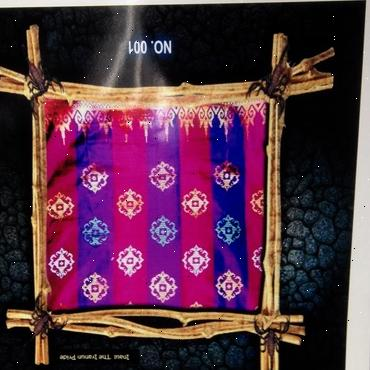malong: (29, 87, 279, 316)
